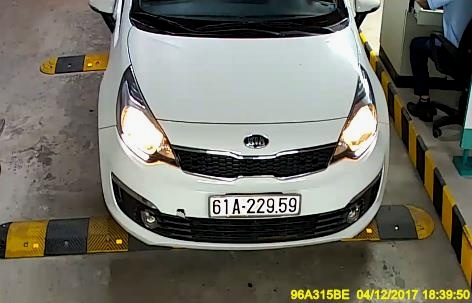plate: (206, 193, 302, 219)
